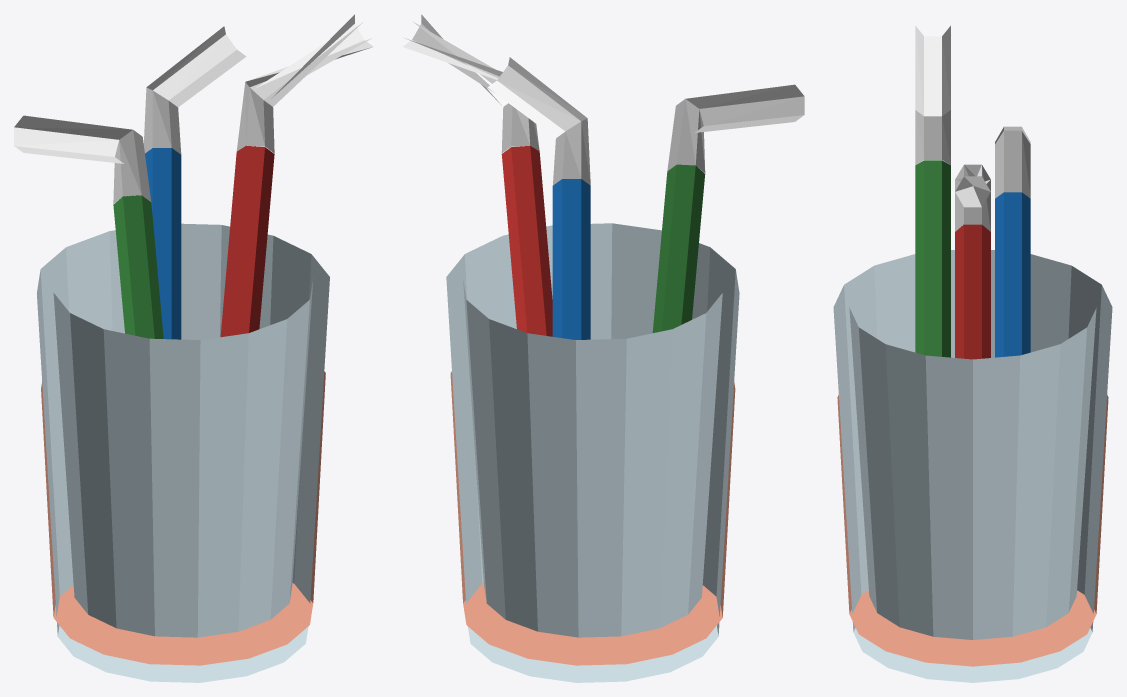
File: sugror.glb
3 renders of one model, left to right at view 1: azimuth 30°, elevation 25°; view 2: azimuth 150°, elevation 25°; view 3: azimuth 270°, elevation 25°, orthographic. The views are drawn at different scales.
Visible parts, largest first — view 1: sugror; view 2: sugror; view 3: sugror.
Part boxes in pixels (left/top/right/bottom): sugror: left=14, top=14, right=373, bottom=682; sugror: left=403, top=14, right=804, bottom=682; sugror: left=833, top=25, right=1112, bottom=682.
Bounding box in the file's own units: 0.203 × 0.2974 × 0.14.
